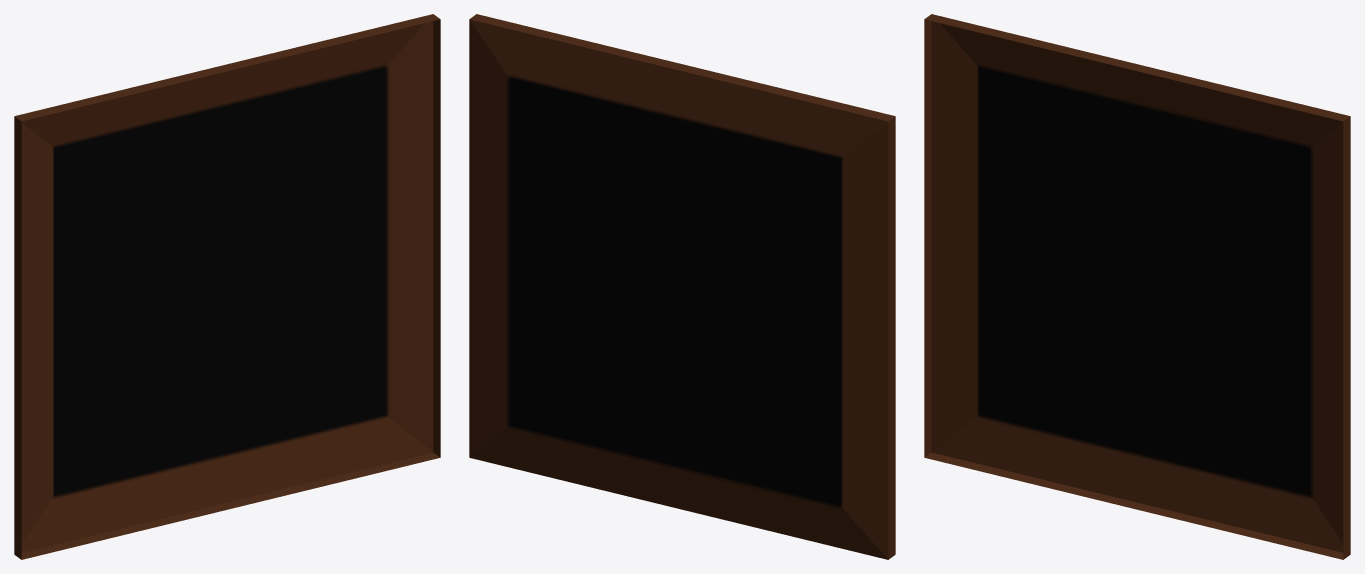
Rendered from MenuButtonSquare.glb.
3 renders of one model, left to right at view 1: azimuth 30°, elevation 25°; view 2: azimuth 150°, elevation 25°; view 3: azimuth 330°, elevation 25°, orthographic.
Visible parts, largest first — view 1: Cube; view 2: Cube; view 3: Cube.
Boxes of the visible parts, x1=… form: Cube: x1=14, y1=14, x2=440, y2=559; Cube: x1=469, y1=14, x2=895, y2=559; Cube: x1=924, y1=14, x2=1350, y2=559.
Size of the model in its own units: 1 by 1 by 0.045.
1 material, 1 textured.
